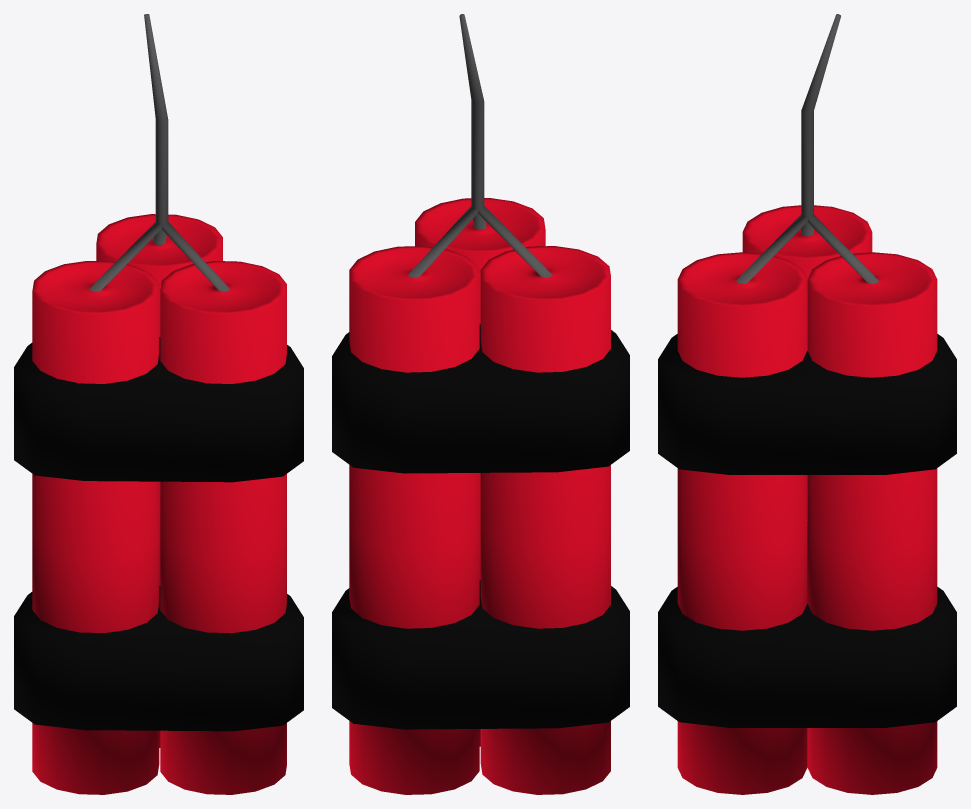
File: Dynamite.fbx
3 views of the same model, side by side, from view 1: azimuth 30°, elevation 25°; view 2: azimuth 150°, elevation 25°; view 3: azimuth 270°, elevation 25° (orthographic). The views are drawn at different scales.
Parts seen in each view (by area): view 1: Cylinder; view 2: Cylinder; view 3: Cylinder.
Boxes of the visible parts, x1,y1,x2,y2 form: Cylinder: (14,14,303,794); Cylinder: (332,14,629,794); Cylinder: (658,14,956,794).
Bounding box in the file's own units: 8.22 × 25.08 × 9.2.
